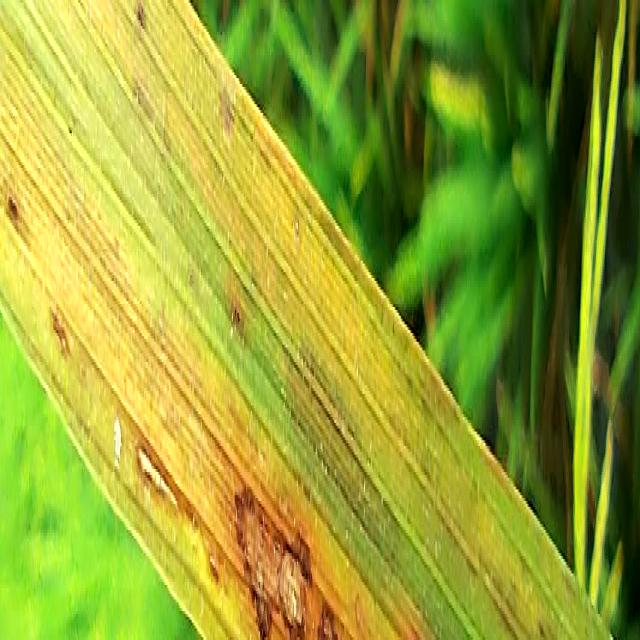LEAF BLAST: (235, 492, 311, 640), (138, 446, 177, 504), (319, 602, 338, 640)
